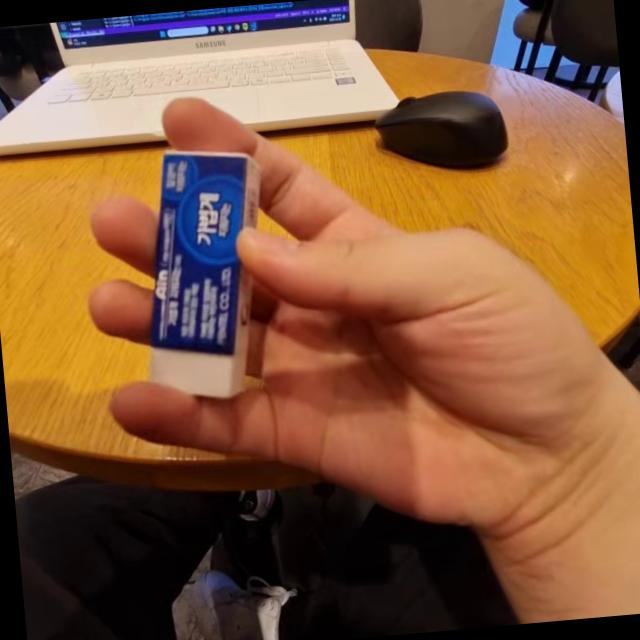eraser: (129, 144, 283, 428)
grab_eraser: (72, 57, 632, 595)
mouse: (377, 74, 527, 196)
